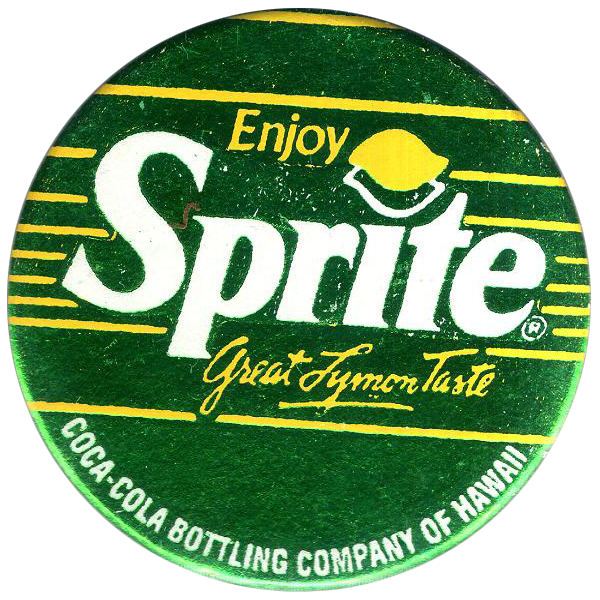sprite: (56, 130, 545, 358)
